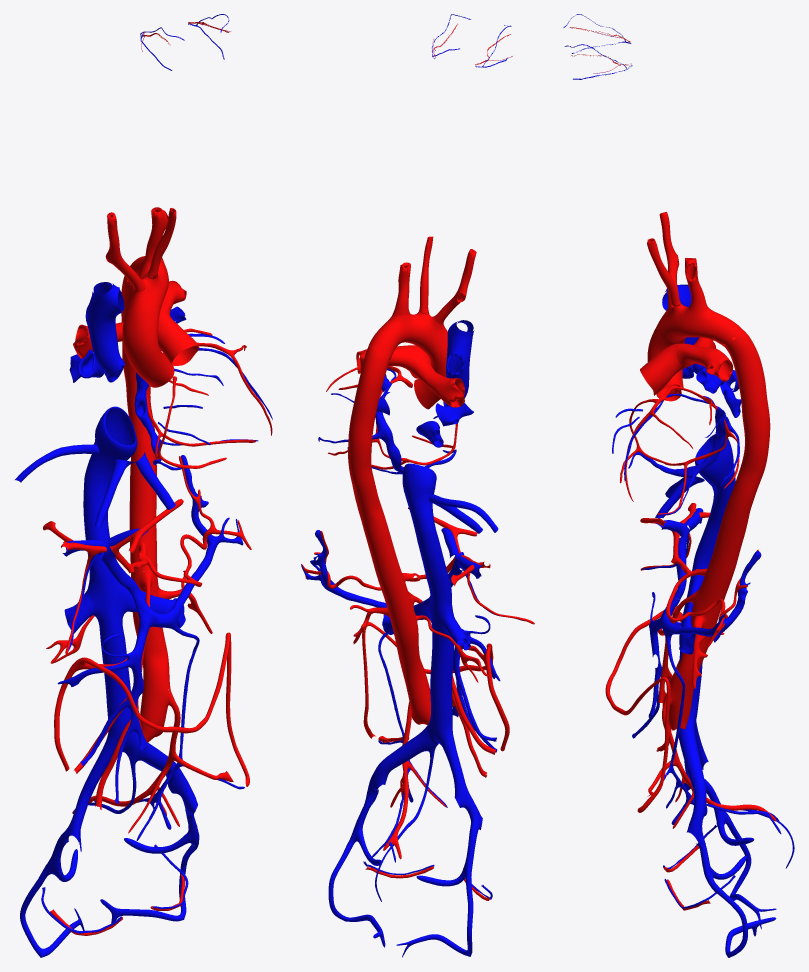
File: vh_f_blood_vasculature-40.glb
The picture shows the model from 3 angles, left to right: view 1: azimuth 30°, elevation 25°; view 2: azimuth 150°, elevation 25°; view 3: azimuth 270°, elevation 25°; orthographic projection. The views are drawn at different scales.
Visible parts, largest first — view 1: VH_F_inferior_vena_cava_b, VH_F_descending_aorta_b, VH_F_superior_vena_cava, VH_F_marginal_artery_of_Drummond, VH_F_ascending_aorta, VH_F_inferior_vena_cava_a, VH_F_splenic_vein, VH_F_aortic_arch, VH_F_left_common_iliac_vein, VH_F_pulmonary_trunk, VH_F_descending_aorta_a, VH_F_right_common_iliac_vein (+14 smaller); view 2: VH_F_descending_aorta_b, VH_F_inferior_vena_cava_b, VH_F_descending_aorta_a, VH_F_aortic_arch, VH_F_inferior_vena_cava_a, VH_F_left_common_iliac_vein, VH_F_superior_vena_cava, VH_F_marginal_artery_of_Drummond, VH_F_pulmonary_artery_R, VH_F_right_common_iliac_vein, VH_F_splenic_vein, VH_F_ascending_aorta (+6 smaller); view 3: VH_F_descending_aorta_b, VH_F_descending_aorta_a, VH_F_aortic_arch, VH_F_inferior_vena_cava_b, VH_F_left_common_iliac_vein, VH_F_marginal_artery_of_Drummond, VH_F_splenic_vein, VH_F_pulmonary_artery_L, VH_F_inferior_vena_cava_a, VH_F_pulmonary_trunk, VH_F_splenic_artery, VH_F_ascending_aorta (+11 smaller).
Boxes of the visible parts, x1=… form: VH_F_inferior_vena_cava_b: x1=83, y1=463, x2=136, y2=752; VH_F_descending_aorta_b: x1=129, y1=443, x2=170, y2=742; VH_F_superior_vena_cava: x1=85, y1=282, x2=124, y2=382; VH_F_marginal_artery_of_Drummond: x1=54, y1=632, x2=249, y2=786; VH_F_ascending_aorta: x1=122, y1=312, x2=174, y2=387; VH_F_inferior_vena_cava_a: x1=88, y1=406, x2=137, y2=476; VH_F_splenic_vein: x1=140, y1=455, x2=243, y2=629; VH_F_aortic_arch: x1=125, y1=256, x2=168, y2=315; VH_F_left_common_iliac_vein: x1=125, y1=733, x2=197, y2=815; VH_F_pulmonary_trunk: x1=158, y1=309, x2=199, y2=365; VH_F_descending_aorta_a: x1=121, y1=276, x2=154, y2=444; VH_F_right_common_iliac_vein: x1=65, y1=736, x2=116, y2=843; VH_F_descending_aorta_b: x1=359, y1=503, x2=430, y2=725; VH_F_inferior_vena_cava_b: x1=412, y1=516, x2=454, y2=745; VH_F_descending_aorta_a: x1=348, y1=347, x2=389, y2=514; VH_F_aortic_arch: x1=368, y1=312, x2=447, y2=360; VH_F_inferior_vena_cava_a: x1=402, y1=463, x2=436, y2=517; VH_F_left_common_iliac_vein: x1=364, y1=724, x2=434, y2=805; VH_F_superior_vena_cava: x1=443, y1=320, x2=474, y2=406; VH_F_marginal_artery_of_Drummond: x1=362, y1=621, x2=509, y2=751; VH_F_pulmonary_artery_R: x1=413, y1=356, x2=464, y2=407; VH_F_right_common_iliac_vein: x1=441, y1=729, x2=482, y2=829; VH_F_splenic_vein: x1=301, y1=530, x2=386, y2=607; VH_F_ascending_aorta: x1=414, y1=347, x2=447, y2=409; VH_F_descending_aorta_b: x1=668, y1=497, x2=751, y2=730; VH_F_descending_aorta_a: x1=724, y1=332, x2=770, y2=509; VH_F_aortic_arch: x1=657, y1=304, x2=744, y2=346; VH_F_inferior_vena_cava_b: x1=679, y1=479, x2=735, y2=725; VH_F_left_common_iliac_vein: x1=678, y1=718, x2=707, y2=843; VH_F_marginal_artery_of_Drummond: x1=605, y1=609, x2=682, y2=812; VH_F_splenic_vein: x1=660, y1=551, x2=761, y2=642; VH_F_pulmonary_artery_L: x1=676, y1=343, x2=733, y2=381; VH_F_inferior_vena_cava_a: x1=695, y1=434, x2=735, y2=492; VH_F_pulmonary_trunk: x1=640, y1=343, x2=694, y2=394; VH_F_splenic_artery: x1=666, y1=549, x2=758, y2=647; VH_F_ascending_aorta: x1=647, y1=324, x2=685, y2=401.
Size of the model in its own units: 0.1928 by 0.799 by 0.1848.
